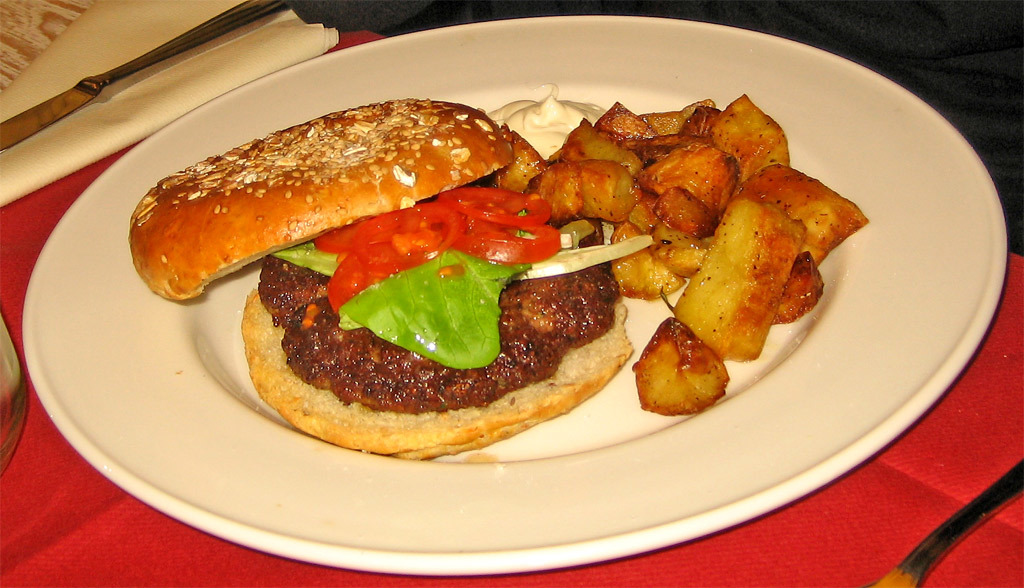Hamburger: (120, 98, 634, 463)
